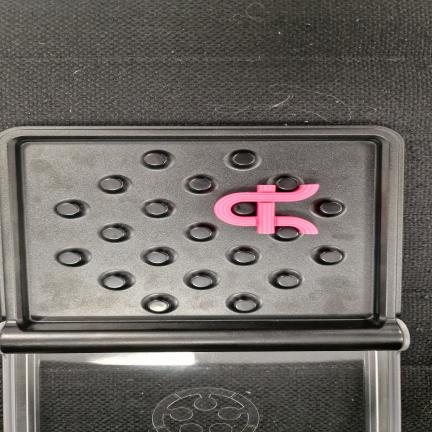G_Pink: (214, 185, 319, 234)
board: (0, 126, 404, 353)
hinge: (0, 324, 404, 348)
pin: (144, 152, 167, 167), (232, 152, 255, 166), (189, 177, 212, 191), (276, 177, 299, 191), (102, 227, 125, 241), (56, 203, 80, 216), (58, 252, 82, 265), (320, 201, 342, 215), (233, 202, 256, 215), (145, 203, 168, 216), (189, 226, 212, 239), (233, 250, 256, 263), (146, 251, 169, 264), (103, 276, 126, 289), (190, 275, 213, 288), (147, 300, 170, 313), (275, 227, 299, 239), (101, 178, 123, 191), (320, 250, 342, 263), (234, 299, 256, 312), (277, 275, 299, 287)
